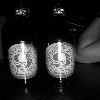beer: (42, 6, 76, 100)
